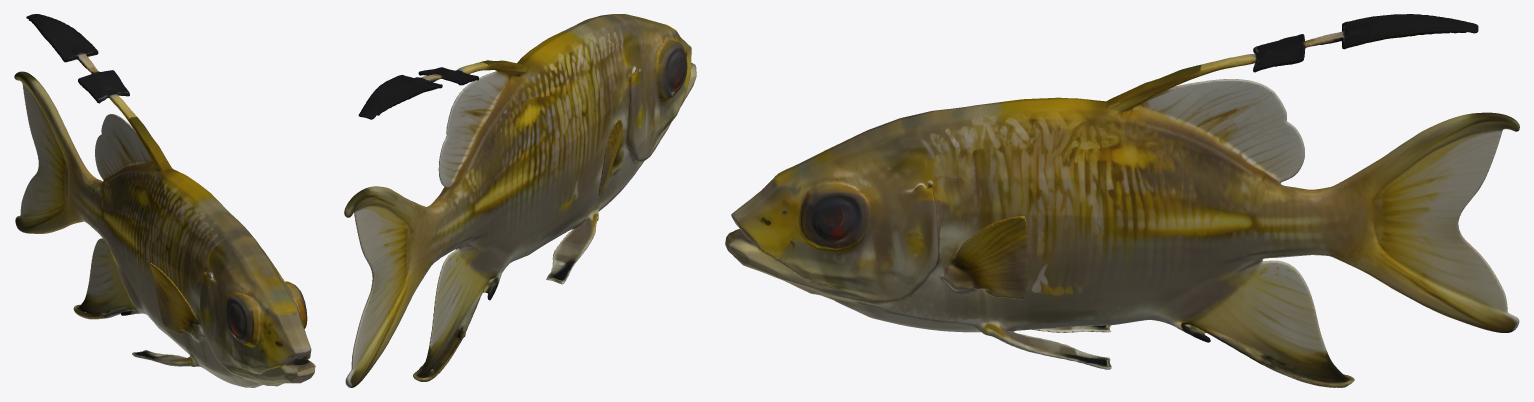
The model's file is fish_swallowtail_b.glb.
3 views of the same model, side by side, from view 1: azimuth 30°, elevation 25°; view 2: azimuth 150°, elevation 25°; view 3: azimuth 270°, elevation 25° (orthographic). The views are drawn at different scales.
Visible parts, largest first — view 1: tripo_node_eb6ffa21-0e6b-4eba-a08d-b3261be8b282; view 2: tripo_node_eb6ffa21-0e6b-4eba-a08d-b3261be8b282; view 3: tripo_node_eb6ffa21-0e6b-4eba-a08d-b3261be8b282.
Part boxes in pixels (x1=…): tripo_node_eb6ffa21-0e6b-4eba-a08d-b3261be8b282: x1=14, y1=14, x2=315, y2=387; tripo_node_eb6ffa21-0e6b-4eba-a08d-b3261be8b282: x1=344, y1=14, x2=696, y2=387; tripo_node_eb6ffa21-0e6b-4eba-a08d-b3261be8b282: x1=725, y1=14, x2=1519, y2=387.
Size of the model in its own units: 0.1946 by 0.5038 by 1.
Materials: 1 (1 with a texture image).
